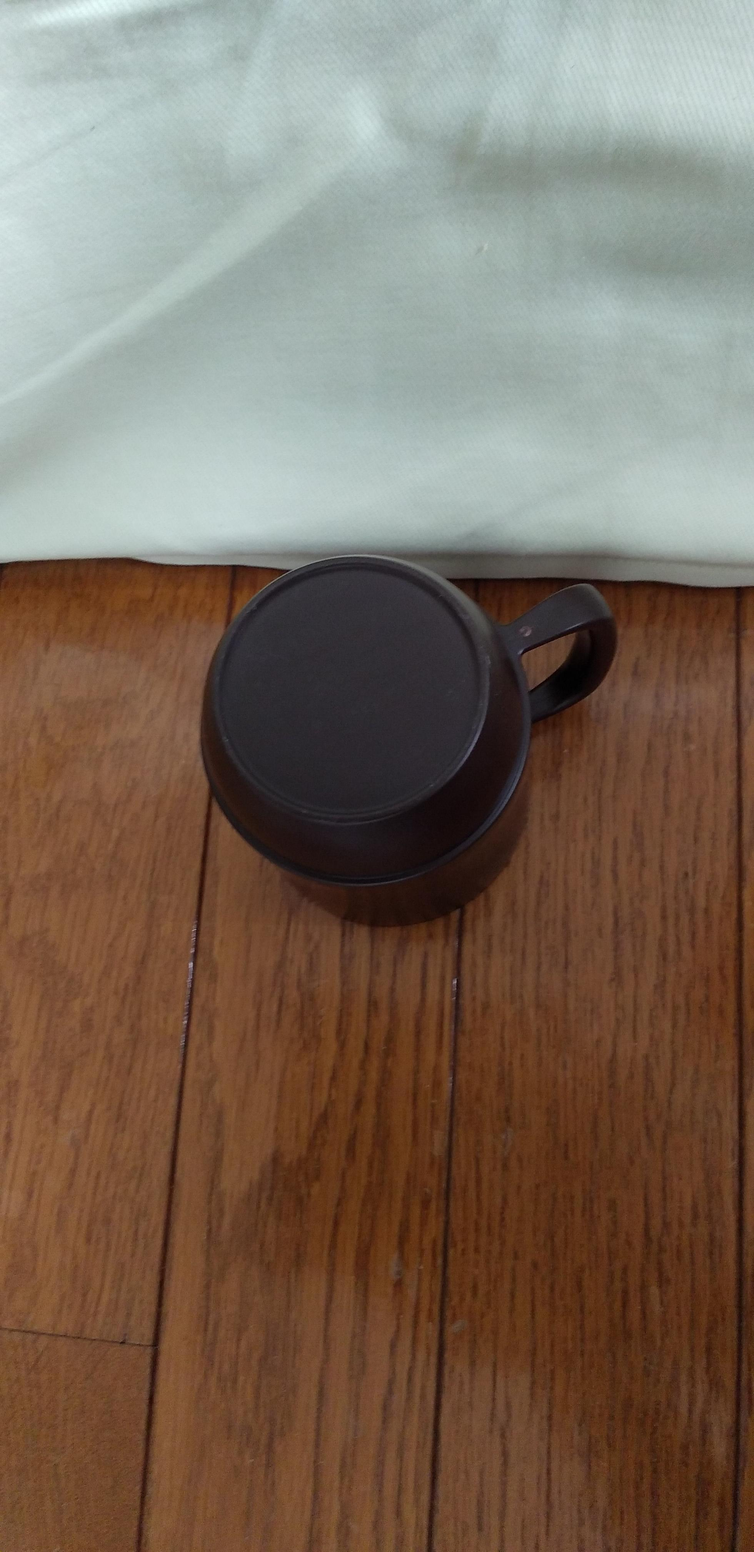mug-real100-3d100: (201, 555, 616, 925)
